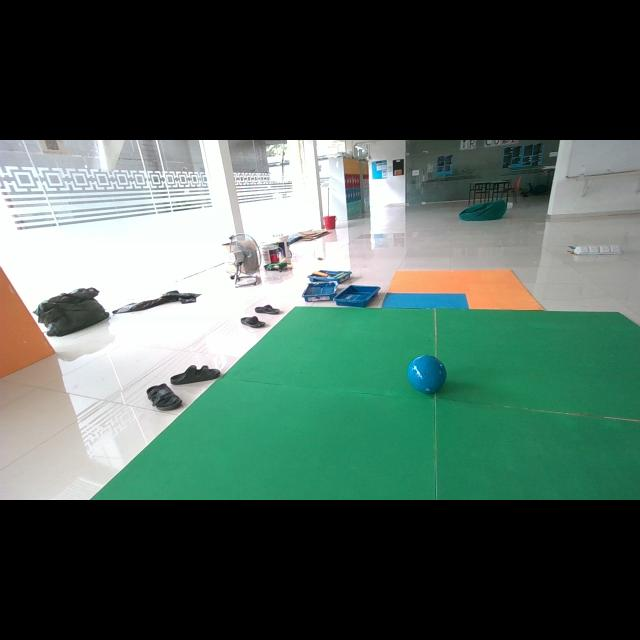B: (408, 355, 446, 394)
